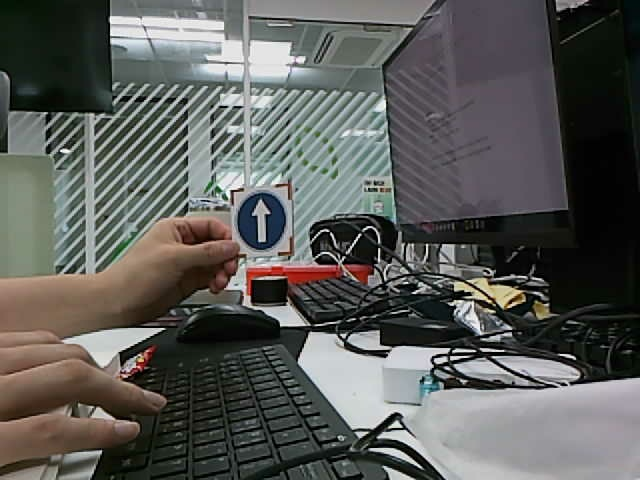go: (235, 192, 287, 251)
